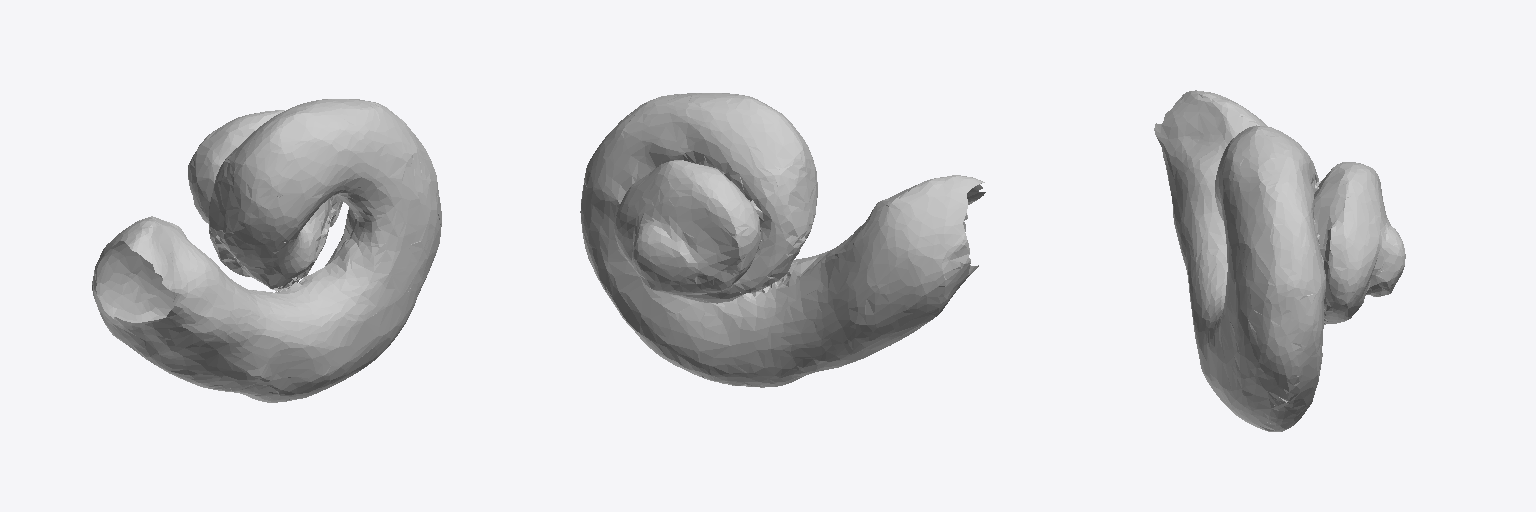
The model's file is cochleeCompleteTroueeSimpleOrientationMegaTrou.obj.
3 renders of one model, left to right at view 1: azimuth 30°, elevation 25°; view 2: azimuth 150°, elevation 25°; view 3: azimuth 270°, elevation 25°, orthographic.
Parts seen in each view (by area): view 1: cochleeComplete_cochleeComplete.001; view 2: cochleeComplete_cochleeComplete.001; view 3: cochleeComplete_cochleeComplete.001.
Boxes of the visible parts, x1=… form: cochleeComplete_cochleeComplete.001: x1=92, y1=99, x2=441, y2=402; cochleeComplete_cochleeComplete.001: x1=580, y1=93, x2=985, y2=387; cochleeComplete_cochleeComplete.001: x1=1154, y1=90, x2=1405, y2=431.
Size of the model in its own units: 9.57 by 7.2 by 5.75.